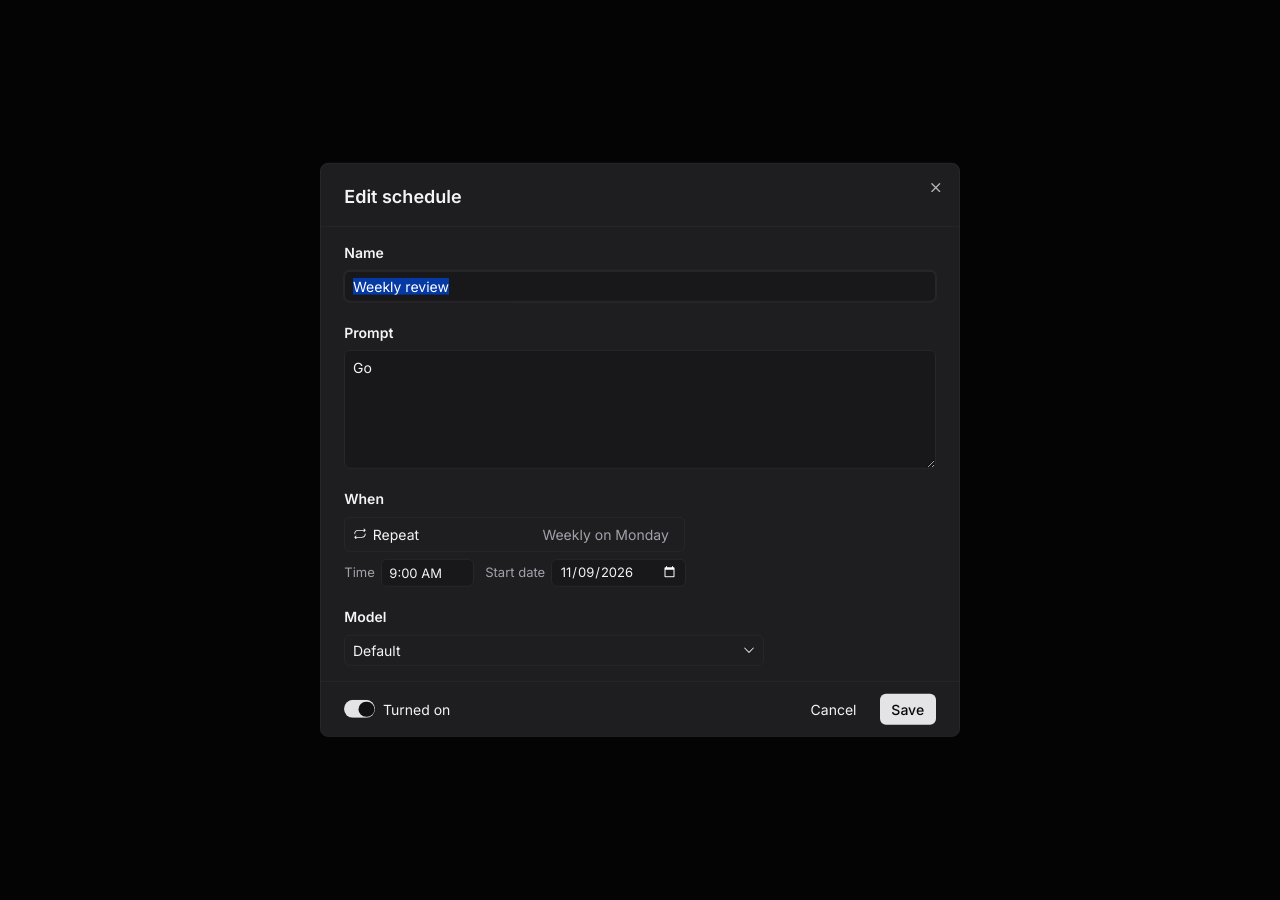
Test case: ScheduleDialog › test the model picker sends the chosen model and null for the default
Later steps or results of the test are not shown.
Click the button with aria-label "Model" at (377, 650), box 344,634 -> 764,665
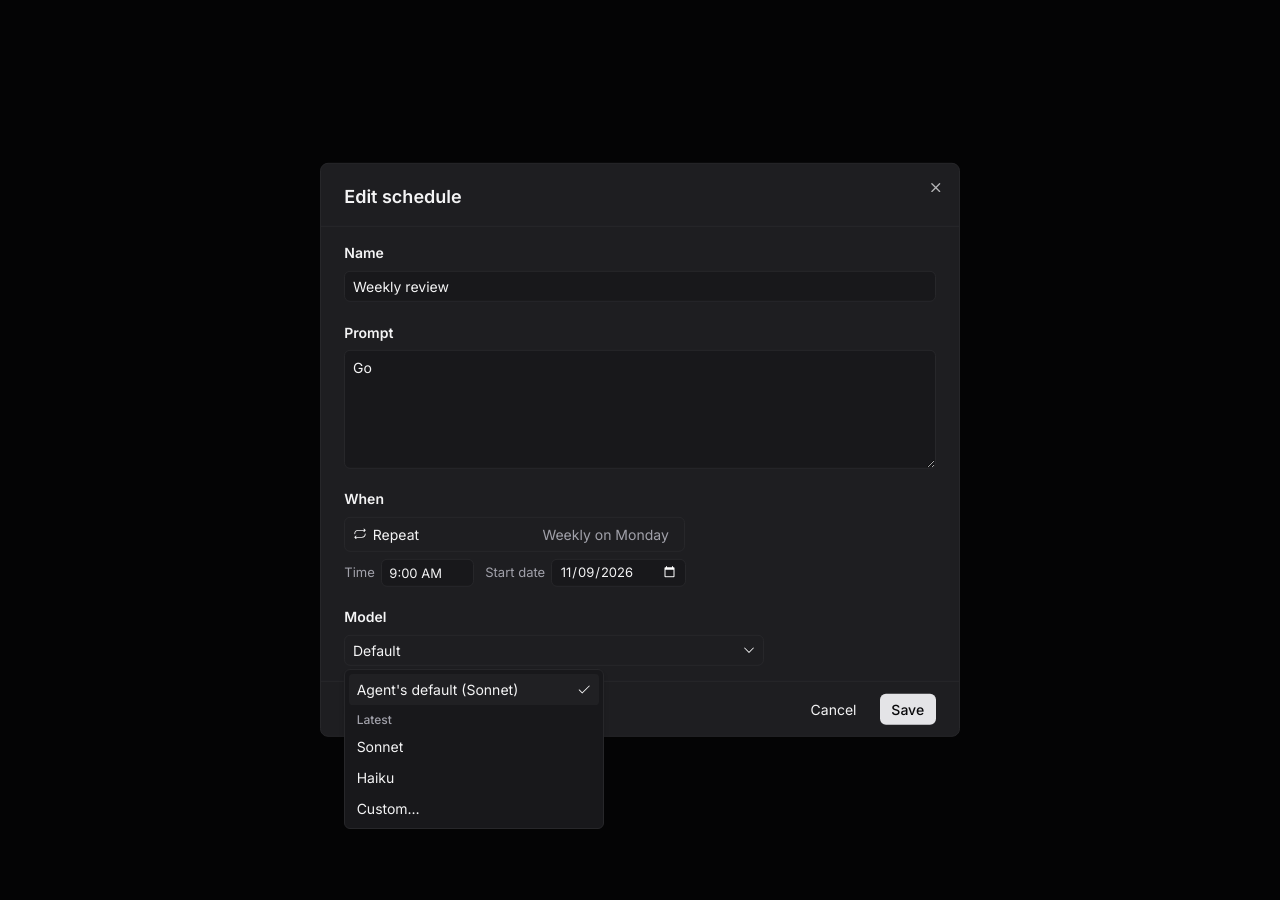
Result: the option "Agent's default (Sonnet)" is shown at 349,674 -> 599,705
